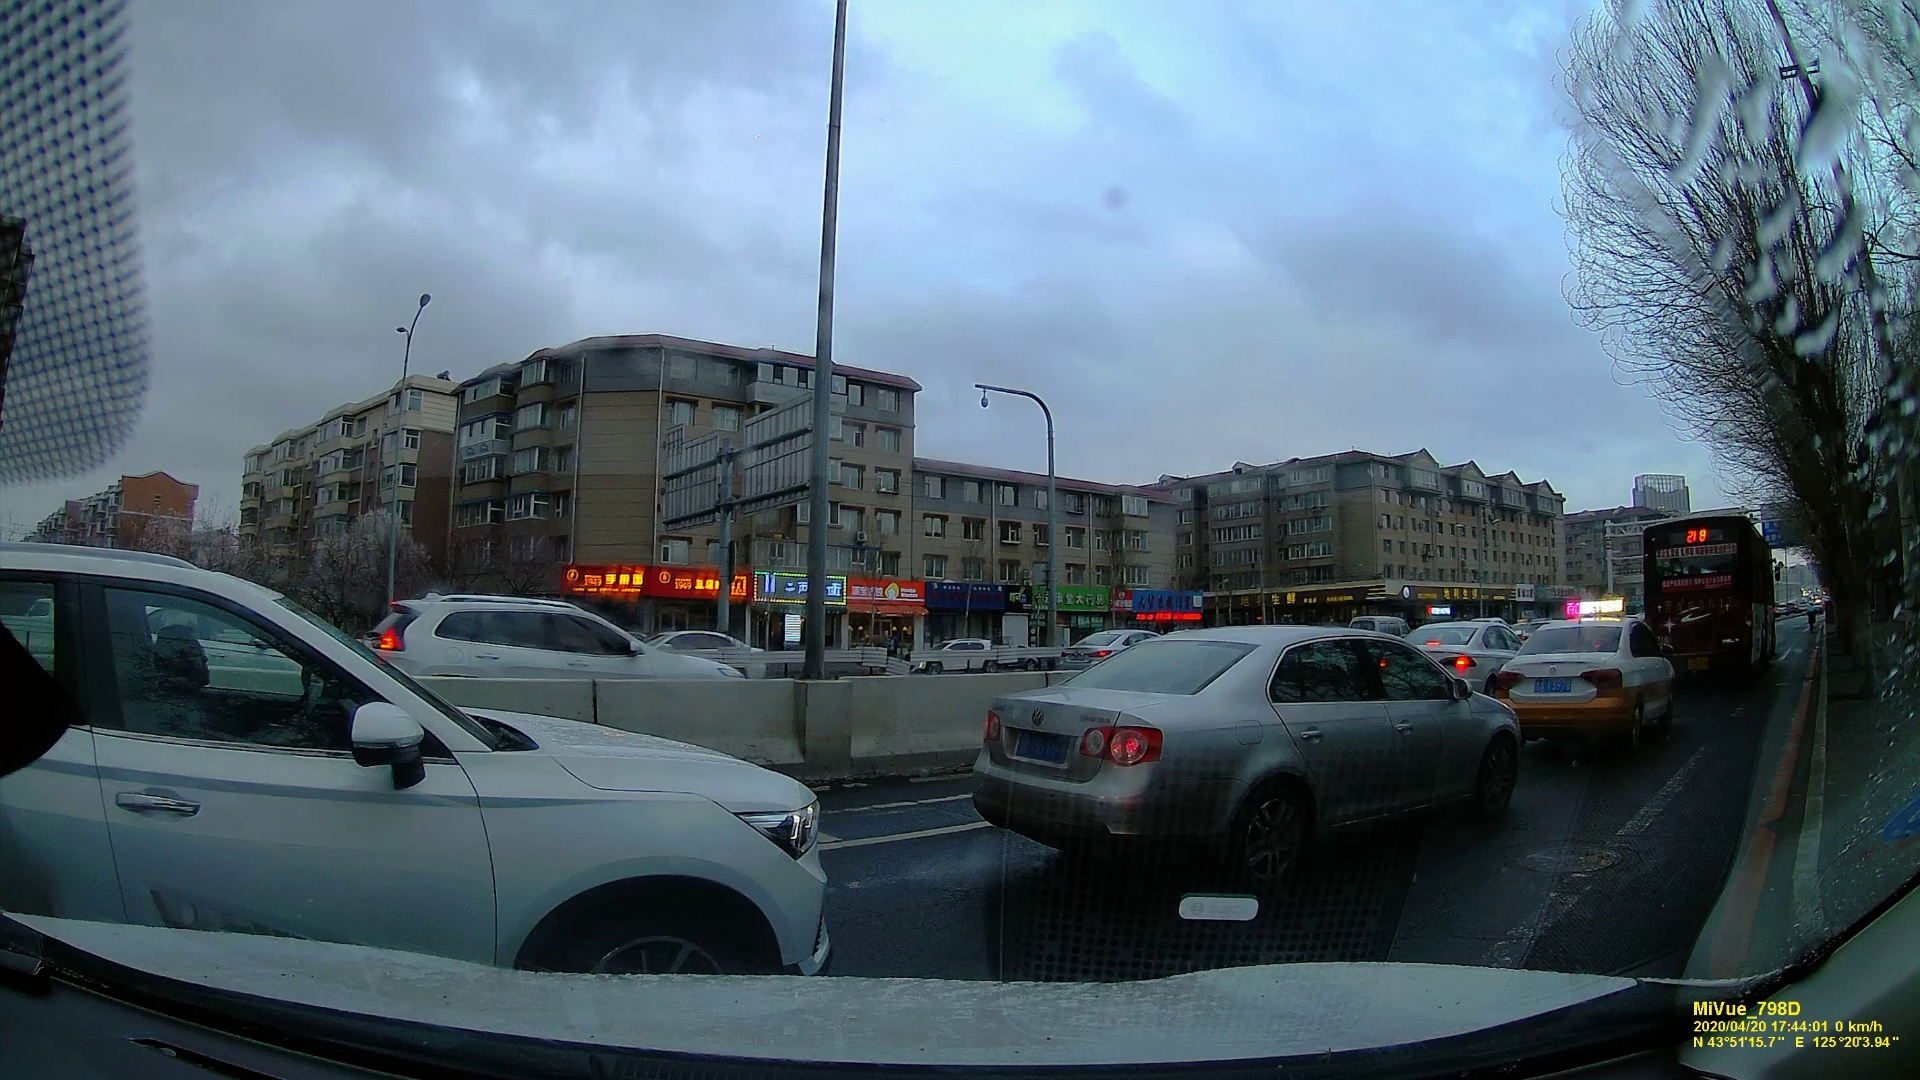bus: (1642, 518, 1778, 676)
vehicle: (61, 595, 833, 986), (990, 636, 1509, 869), (371, 593, 731, 692), (1513, 617, 1673, 756), (1414, 618, 1516, 688), (916, 636, 997, 673)
